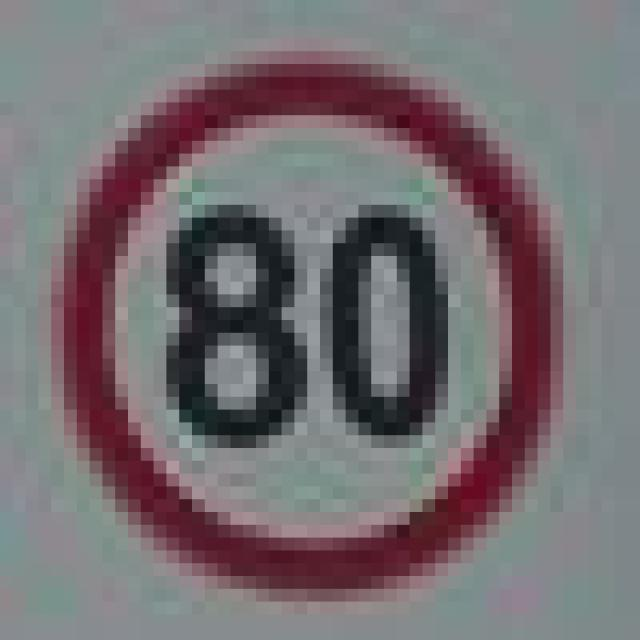speed_limit_50: (51, 38, 563, 589)
